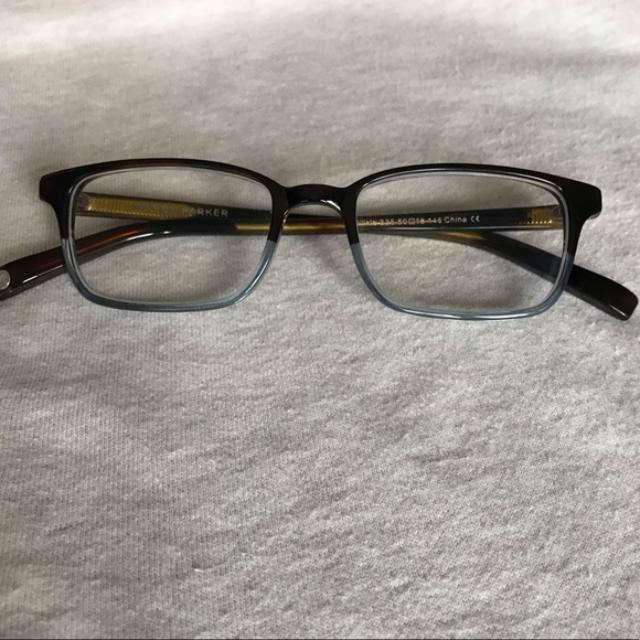glasses: (0, 156, 638, 320)
